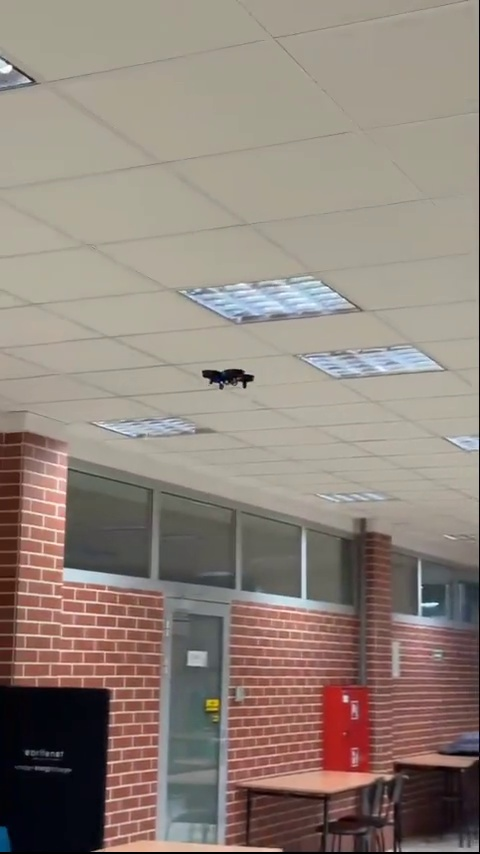drone: (200, 364, 257, 394)
